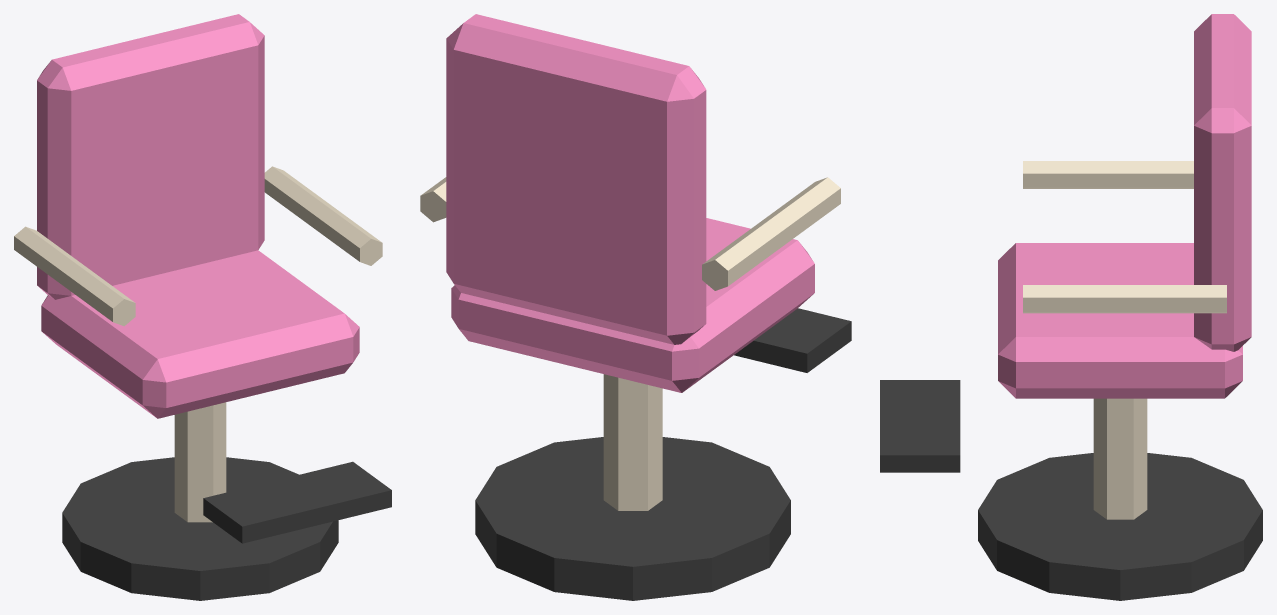
3 renders of one model, left to right at view 1: azimuth 30°, elevation 25°; view 2: azimuth 150°, elevation 25°; view 3: azimuth 270°, elevation 25°, orthographic. The views are drawn at different scales.
Visible parts, largest first — view 1: Back, Seat, Base, Footrest, Hydraulic post, Arm, Arm.001; view 2: Back, Base, Seat, Hydraulic post, Arm, Footrest, Arm.001; view 3: Base, Seat, Back, Footrest, Hydraulic post, Arm.001, Arm.
Part boxes in pixels (x1,y1,x2,y2): Back: [37, 14, 264, 299]; Seat: [41, 250, 359, 418]; Base: [62, 457, 338, 600]; Footrest: [203, 461, 391, 543]; Hydraulic post: [174, 402, 226, 522]; Arm: [14, 226, 135, 326]; Arm.001: [264, 166, 382, 265]; Back: [446, 14, 706, 344]; Base: [475, 437, 790, 600]; Seat: [451, 218, 814, 392]; Hydraulic post: [603, 374, 662, 510]; Arm: [702, 177, 840, 290]; Footrest: [734, 308, 851, 372]; Arm.001: [420, 177, 446, 222]; Base: [978, 453, 1262, 600]; Seat: [998, 243, 1242, 398]; Back: [1194, 14, 1251, 351]; Footrest: [880, 380, 960, 472]; Hydraulic post: [1093, 398, 1147, 519]; Arm.001: [1023, 285, 1226, 313]; Arm: [1023, 161, 1193, 188].
Bounding box in the file's own units: 0.7927 × 1.31 × 0.946.
1 material, 1 textured.
